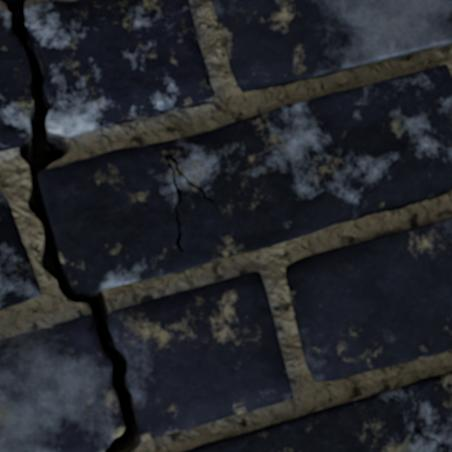brick: (39, 65, 451, 291), (286, 218, 451, 380), (212, 0, 451, 90), (185, 372, 451, 451), (0, 191, 39, 309)
broken_brick: (109, 271, 294, 441), (25, 0, 214, 137), (0, 314, 122, 451), (0, 9, 31, 151)
crack: (1, 0, 141, 451), (412, 427, 445, 451)
